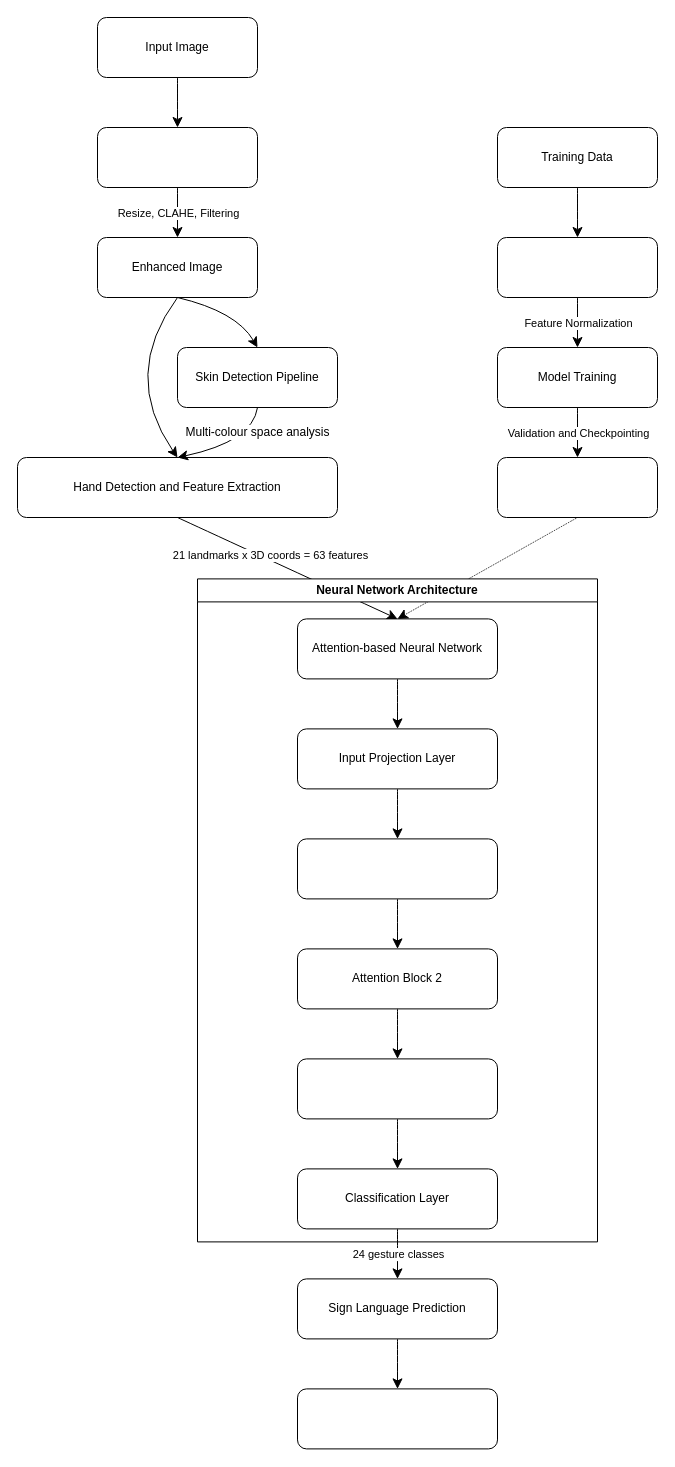
This 675x1467 diagram has some shape labels left out. The shapes that lost their labels are listed below. From the top down, each one's centre as x and y in pixels, then its label:
At point (177, 157): "Image pre-processing".
At point (577, 267): "Data pre-processing".
At point (577, 487): "Trained Model".
At point (397, 868): "Attention Block 1".
At point (397, 1088): "Global Average Pooling".
At point (397, 1418): "Real-time Visualization".
